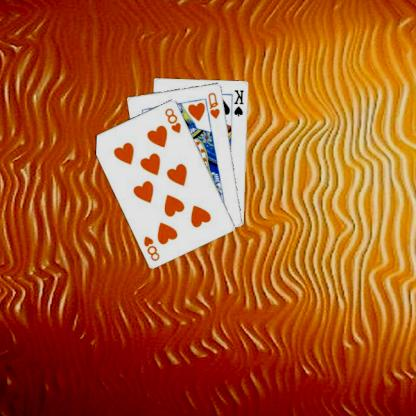8H: (164, 105, 184, 134), (143, 233, 163, 262)
KS: (233, 86, 247, 118)
QH: (208, 90, 224, 119)
